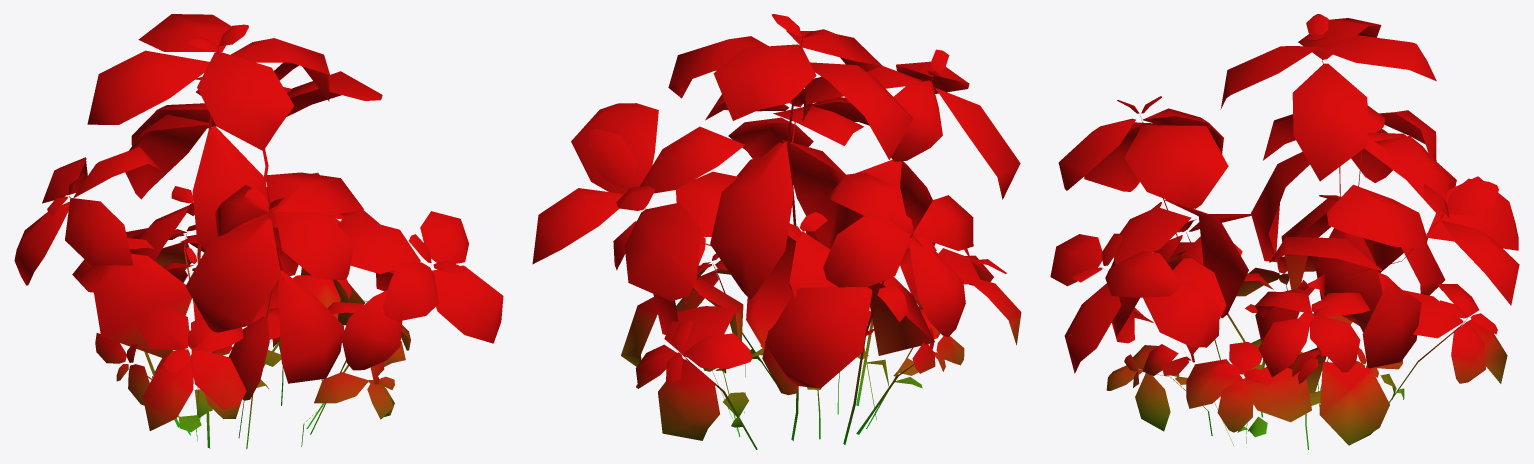
File: Basil_LOD4_Var4_vgpochzia.fbx
3 views of the same model, side by side, from view 1: azimuth 30°, elevation 25°; view 2: azimuth 150°, elevation 25°; view 3: azimuth 270°, elevation 25° (orthographic). The views are drawn at different scales.
Visible parts, largest first — view 1: _1607_Var4_LOD4; view 2: _1607_Var4_LOD4; view 3: _1607_Var4_LOD4.
Part boxes in pixels (bbox=[...]): _1607_Var4_LOD4: bbox=[14, 14, 503, 449]; _1607_Var4_LOD4: bbox=[532, 14, 1021, 449]; _1607_Var4_LOD4: bbox=[1050, 14, 1519, 449].
Size of the model in its own units: 34.94 by 36.39 by 39.01.
